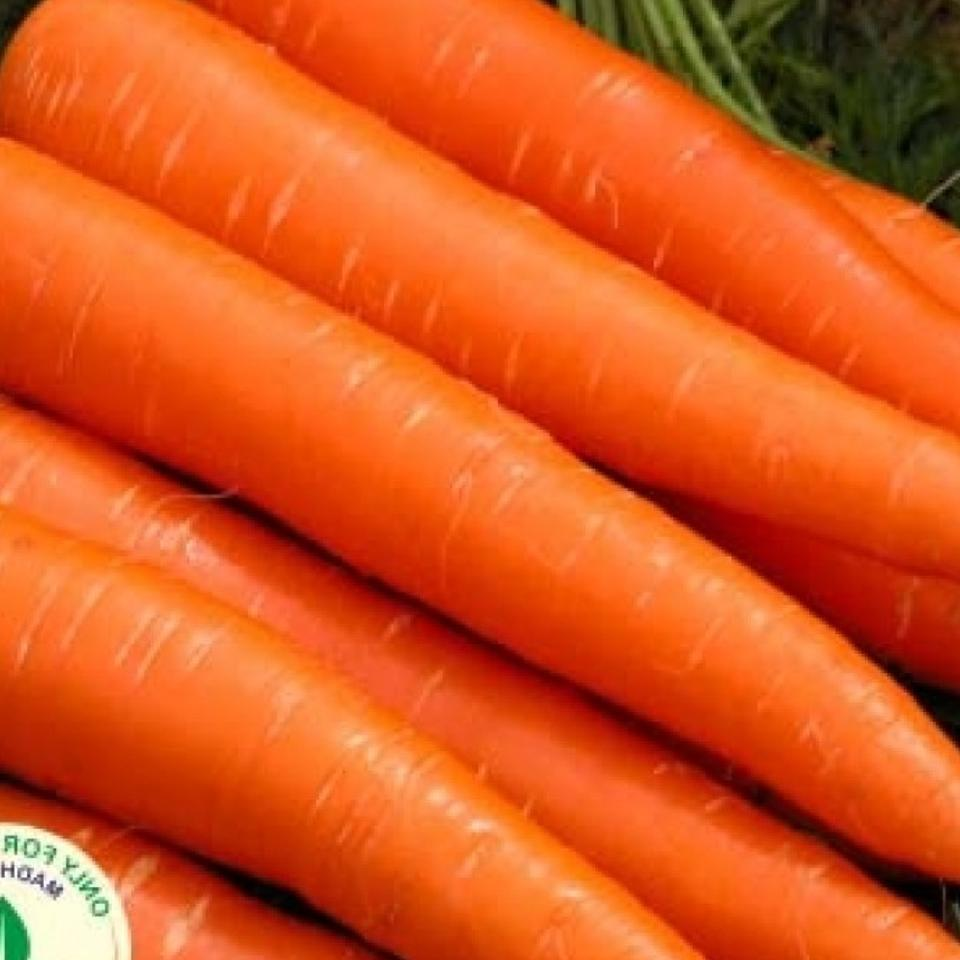carrot: (22, 3, 958, 823)
